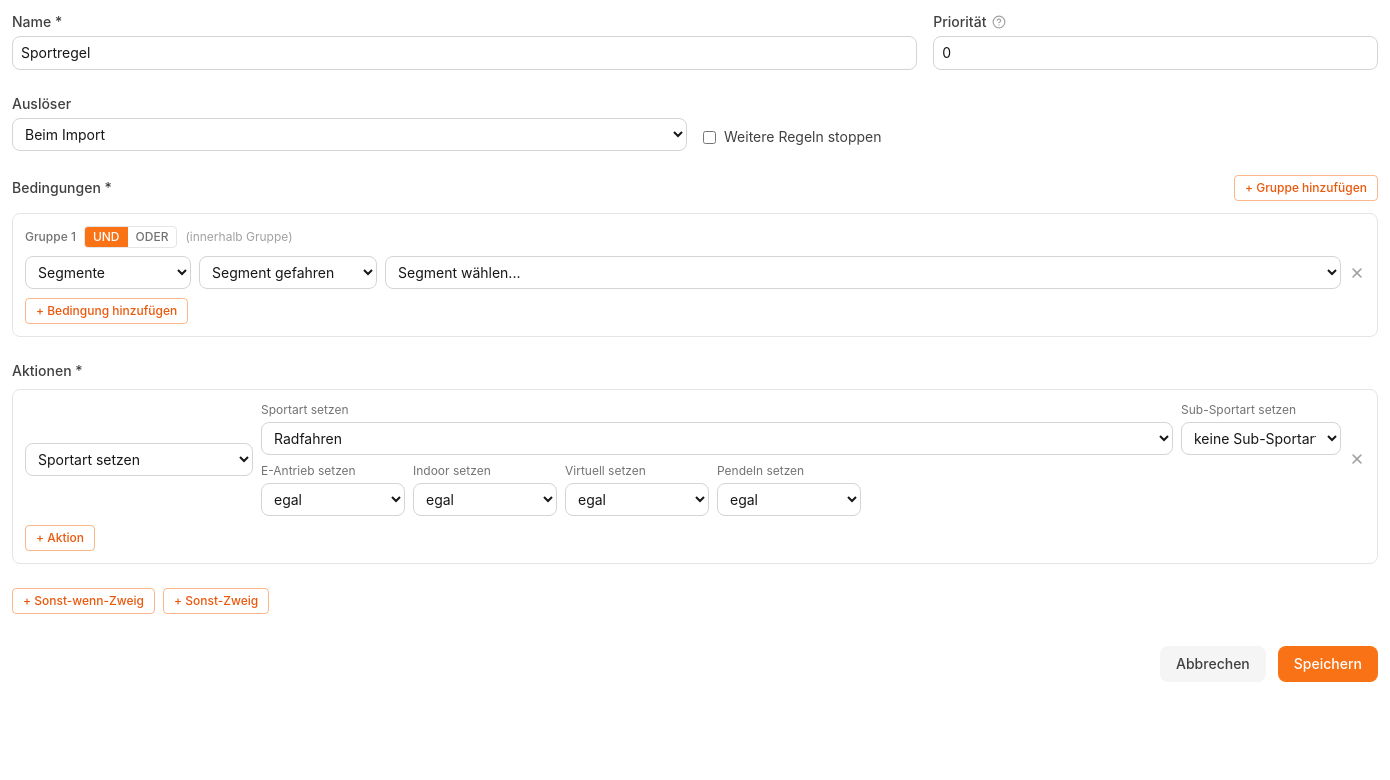
RuleEditor sport tuple controls › uses an access-aware segment picker with preview text for segment conditions
Select "Sichtbares Segment" in the dropdown named "Segment wählen". click: {"x": 863, "y": 272}
box: [385,256,1341,289]
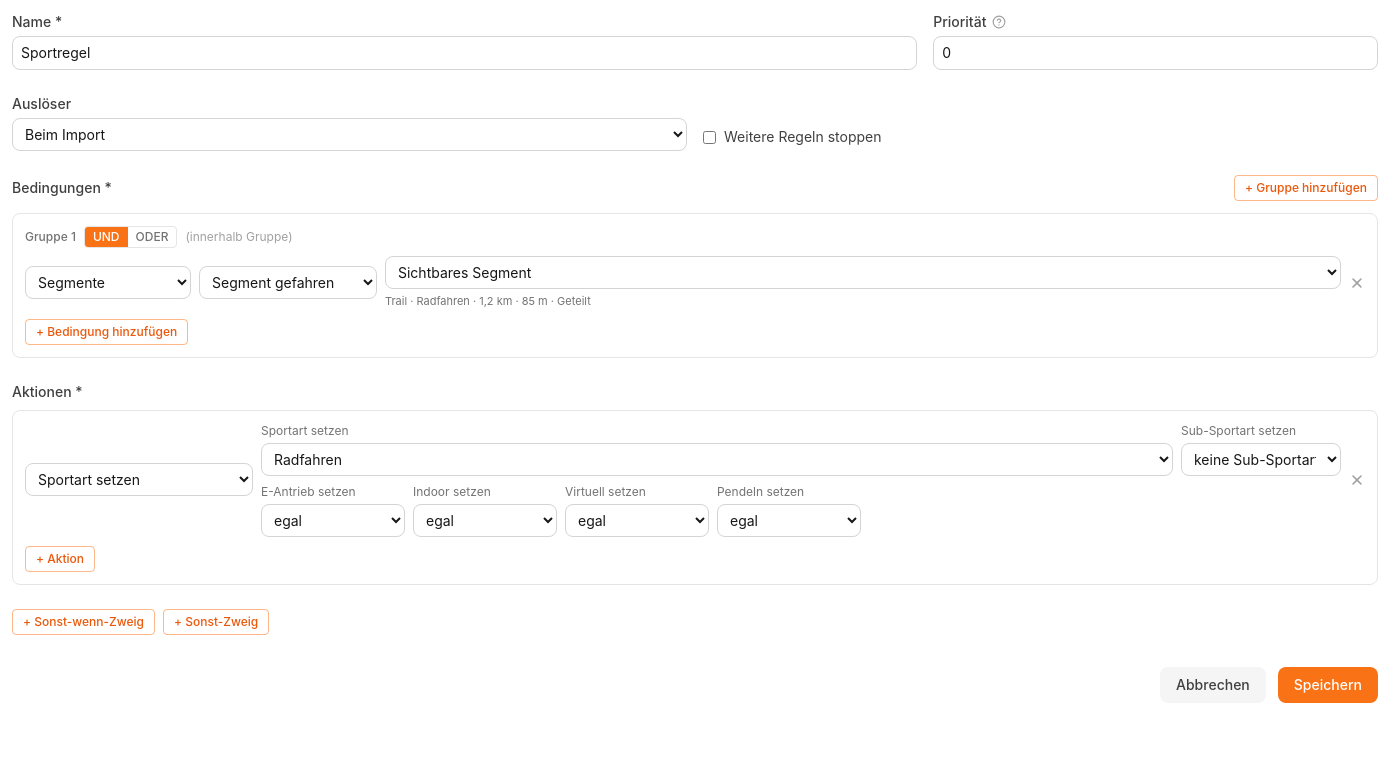
Expected: the text "Trail · Radfahren · 1,2 km · 85 m · Geteilt" is shown, [385,294,591,308]
